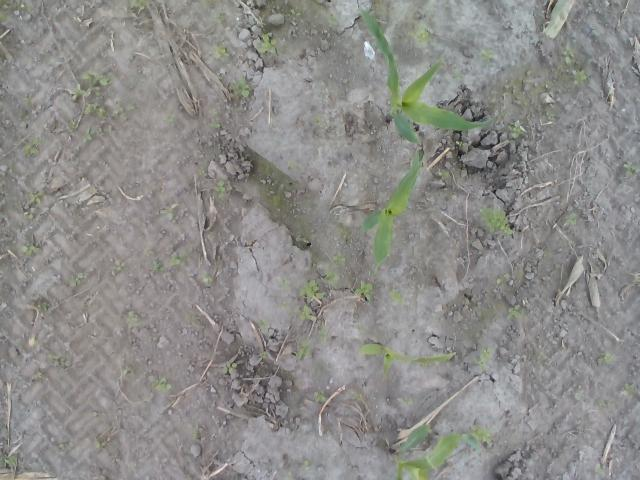Maize: (358, 7, 488, 147), (361, 146, 423, 270), (388, 422, 479, 480), (357, 342, 458, 374)
Weeds: (71, 71, 112, 97), (562, 46, 591, 82), (82, 103, 134, 120), (20, 137, 48, 158), (298, 279, 325, 300), (257, 33, 282, 53), (414, 23, 433, 47), (228, 77, 252, 96), (473, 347, 492, 370), (294, 335, 312, 359), (354, 280, 374, 300), (298, 303, 318, 322), (470, 426, 491, 444), (48, 352, 72, 367), (212, 44, 231, 62), (152, 376, 173, 392), (322, 270, 338, 289), (596, 351, 616, 366), (388, 288, 406, 304), (168, 255, 190, 268), (20, 243, 42, 256), (623, 160, 639, 177), (335, 224, 351, 241), (70, 272, 87, 288), (128, 310, 143, 328), (26, 191, 44, 205), (506, 305, 522, 320), (214, 180, 226, 200), (82, 128, 96, 145), (208, 9, 225, 23), (480, 48, 497, 62), (111, 258, 128, 272), (624, 382, 638, 398), (511, 120, 523, 138), (280, 8, 304, 17), (152, 258, 166, 272), (0, 454, 16, 466), (129, 0, 146, 11), (223, 361, 237, 374), (318, 326, 328, 344), (495, 274, 509, 286), (162, 111, 176, 123), (544, 110, 558, 122), (299, 460, 312, 472), (564, 212, 576, 225), (328, 15, 338, 30), (399, 398, 417, 406), (94, 438, 106, 450), (16, 4, 34, 12), (282, 271, 290, 288), (202, 271, 210, 288), (0, 0, 15, 9), (256, 318, 268, 329), (333, 253, 345, 264), (264, 185, 276, 196), (438, 168, 451, 178), (208, 122, 226, 129), (314, 391, 326, 401), (190, 431, 202, 441), (21, 212, 34, 221), (167, 208, 176, 221), (594, 398, 607, 406), (534, 351, 544, 361), (352, 392, 364, 400), (39, 302, 48, 312), (208, 110, 222, 116), (314, 112, 320, 126), (258, 352, 268, 360), (287, 160, 296, 168), (456, 72, 464, 80), (15, 200, 22, 208), (456, 140, 464, 146), (0, 15, 7, 20), (416, 64, 421, 68)
